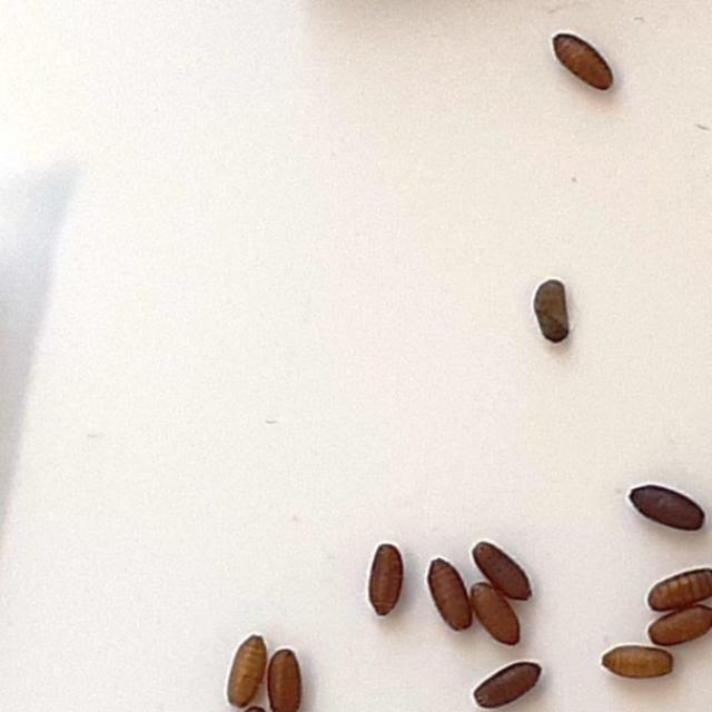pupae: (468, 535, 549, 614), (544, 28, 621, 104), (623, 476, 711, 540), (420, 550, 476, 637), (360, 528, 410, 624), (468, 656, 550, 712), (469, 579, 531, 649), (522, 274, 580, 348), (223, 628, 269, 706), (640, 564, 712, 610), (266, 638, 308, 712), (644, 601, 712, 645), (595, 648, 677, 684)
